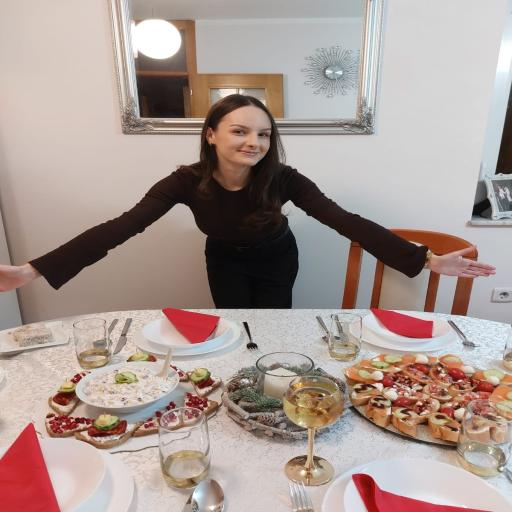marija: (214, 104, 276, 168)
